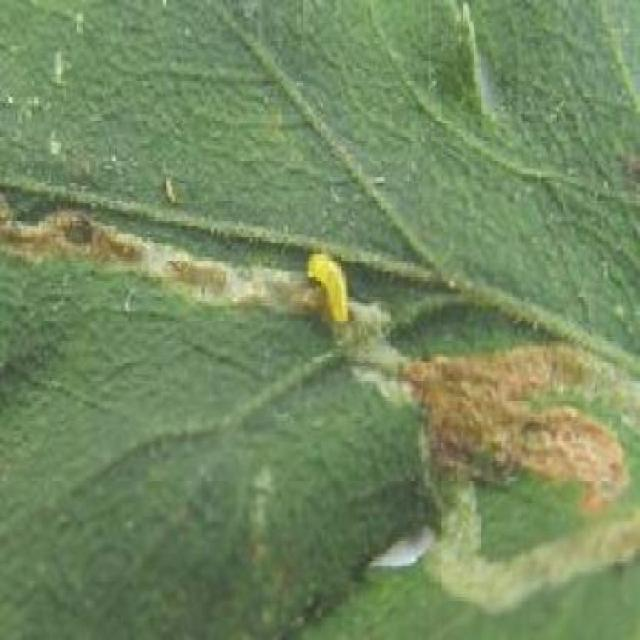whorl-maggot: (298, 240, 354, 335)
